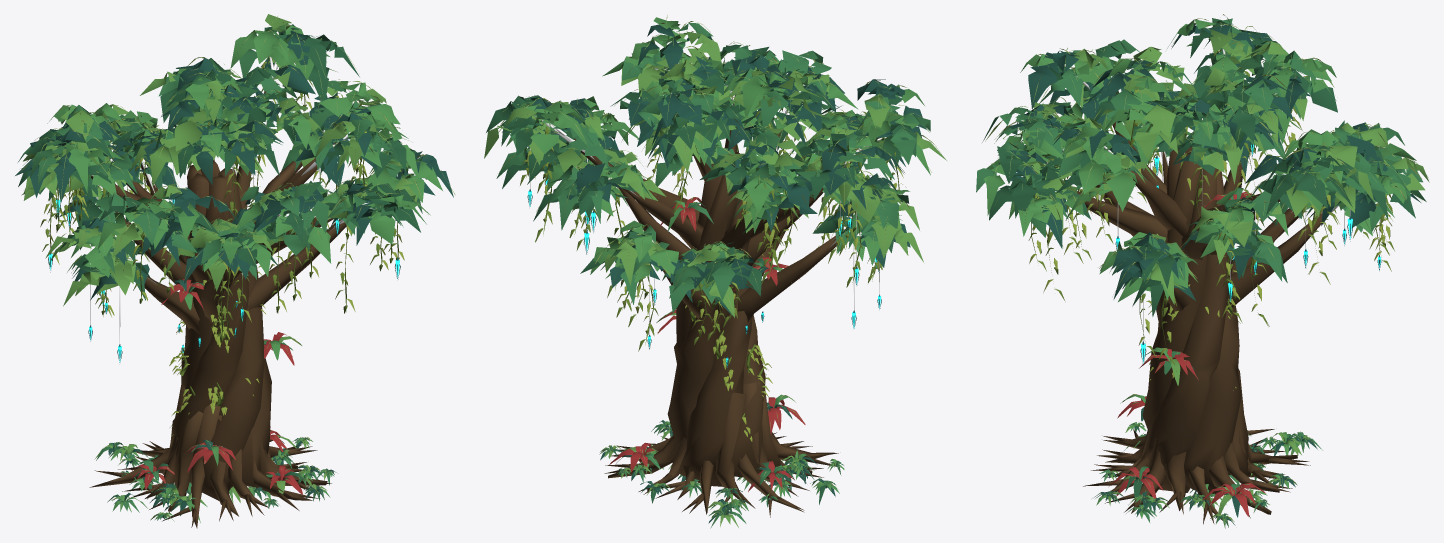
Rendered from blend-tree-map.glb.
3 views of the same model, side by side, from view 1: azimuth 30°, elevation 25°; view 2: azimuth 150°, elevation 25°; view 3: azimuth 270°, elevation 25° (orthographic). The views are drawn at different scales.
Visible parts, largest first — view 1: Tropical split leaves, Interwoven trunk, Canopy branches, Epiphytes and ferns, Spreading buttress roots, Foliage veins, Vine foliage, Root tips, Hanging jungle vines, Moss foliage; view 2: Tropical split leaves, Interwoven trunk, Canopy branches, Epiphytes and ferns, Spreading buttress roots, Foliage veins, Vine foliage, Hanging jungle vines, Root tips, Moss foliage, Seed husks; view 3: Tropical split leaves, Interwoven trunk, Canopy branches, Epiphytes and ferns, Foliage veins, Spreading buttress roots, Vine foliage, Root tips, Hanging jungle vines.
Part boxes in pixels (<box>): Tropical split leaves: <box>15,14,453,306</box>; Interwoven trunk: <box>162,160,271,500</box>; Canopy branches: <box>91,91,346,333</box>; Epiphytes and ferns: <box>94,279,336,522</box>; Spreading buttress roots: <box>89,383,327,528</box>; Foliage veins: <box>20,16,455,519</box>; Vine foliage: <box>40,57,404,342</box>; Root tips: <box>91,437,331,527</box>; Hanging jungle vines: <box>49,56,398,340</box>; Moss foliage: <box>169,266,265,436</box>; Tropical split leaves: <box>484,17,946,317</box>; Interwoven trunk: <box>667,152,765,486</box>; Canopy branches: <box>574,95,862,321</box>; Epiphytes and ferns: <box>599,197,844,528</box>; Spreading buttress roots: <box>608,382,834,514</box>; Foliage veins: <box>498,15,940,525</box>; Vine foliage: <box>520,35,903,351</box>; Hanging jungle vines: <box>526,85,899,344</box>; Root tips: <box>604,432,840,517</box>; Moss foliage: <box>683,254,772,441</box>; Seed husks: <box>527,170,881,367</box>; Tropical split leaves: <box>976,18,1429,316</box>; Interwoven trunk: <box>1140,147,1248,494</box>; Canopy branches: <box>1077,108,1322,311</box>; Epiphytes and ferns: <box>1094,187,1322,528</box>; Foliage veins: <box>985,14,1428,525</box>; Spreading buttress roots: <box>1103,426,1297,520</box>; Vine foliage: <box>1028,51,1394,364</box>; Root tips: <box>1083,428,1310,524</box>; Hanging jungle vines: <box>1031,49,1386,355</box>.
Size of the model in its own units: 6.59 by 6.62 by 6.51.
